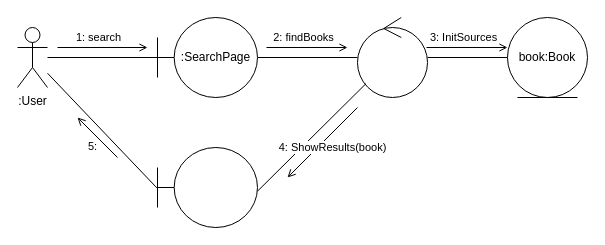
Image size: 605x245. Some labels were removed from this diagram. Each missing label, with the box of its shape:
:Controller: (356, 16, 428, 98)
:ResultsPage: (156, 146, 258, 228)
